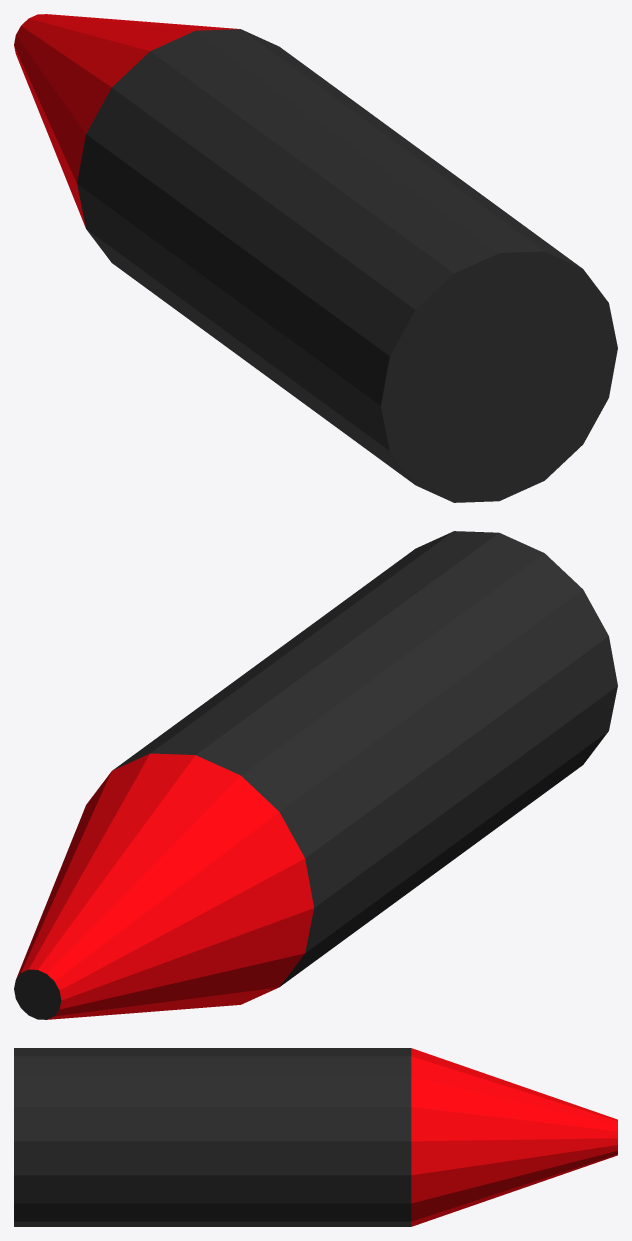
The model's file is Bullet.glb.
The picture shows the model from 3 angles, top to bottom: view 1: azimuth 30°, elevation 25°; view 2: azimuth 150°, elevation 25°; view 3: azimuth 270°, elevation 25°; orthographic projection. The views are drawn at different scales.
Parts seen in each view (by area): view 1: Bullet; view 2: Bullet; view 3: Bullet.
Part boxes in pixels (box(x1,y1,x2,y2)): Bullet: box(14, 14, 617, 502); Bullet: box(14, 531, 617, 1019); Bullet: box(14, 1048, 617, 1226).
Size of the model in its own units: 0.2 by 0.2 by 0.6745.
